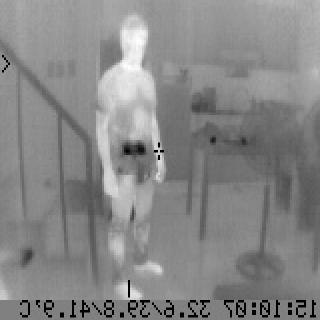Gun: (120, 138, 148, 188)
